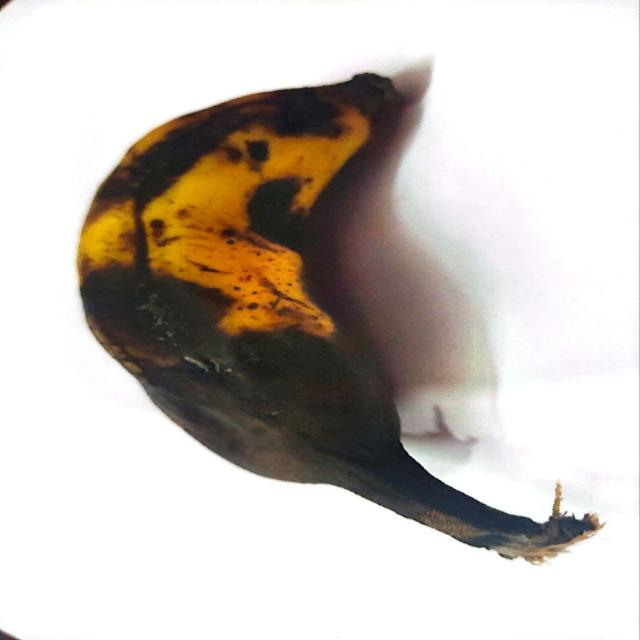rotten_banana: (69, 75, 452, 503)
